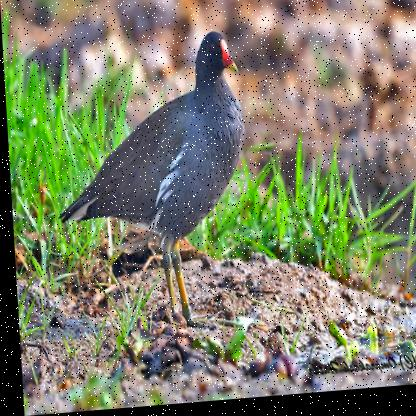Burung: (47, 33, 253, 339)
